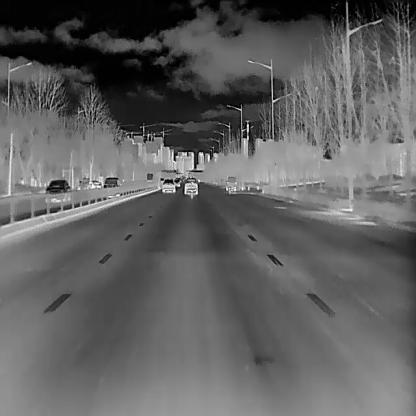bus: (146, 172, 154, 180)
car: (44, 178, 70, 200), (184, 178, 198, 195), (102, 176, 120, 188), (224, 175, 236, 191), (162, 178, 175, 192), (88, 180, 101, 188), (173, 177, 181, 187)
